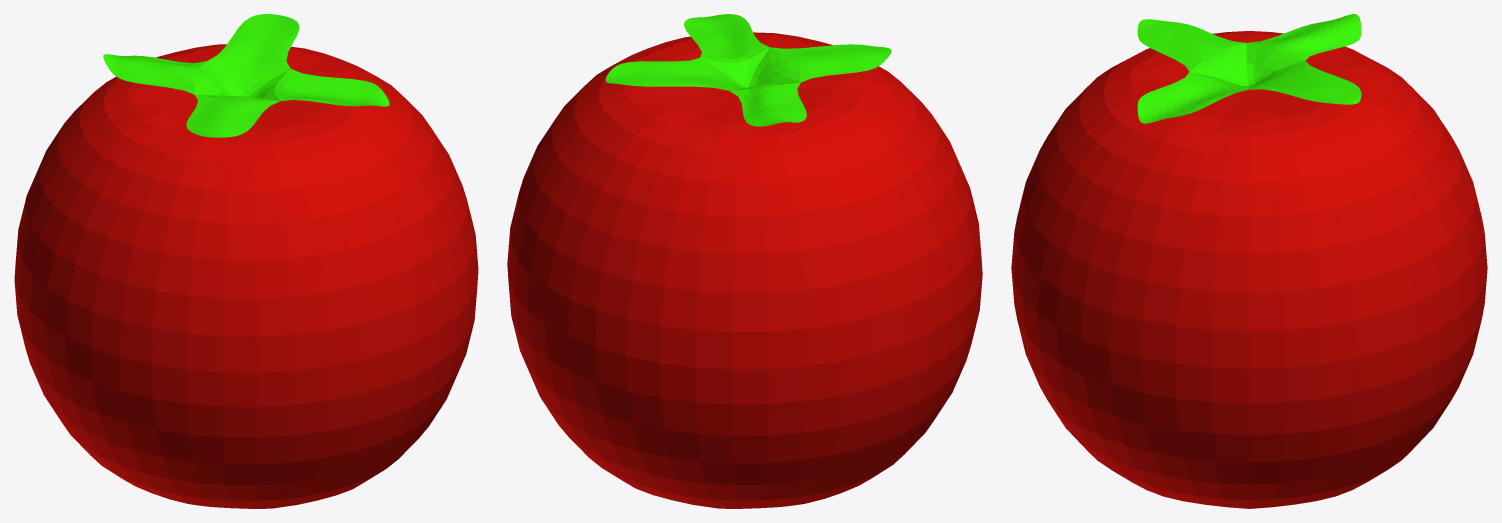
File: SM_Tomato_DEFAULT.FBX
3 renders of one model, left to right at view 1: azimuth 30°, elevation 25°; view 2: azimuth 150°, elevation 25°; view 3: azimuth 270°, elevation 25°, orthographic. The views are drawn at different scales.
Parts seen in each view (by area): view 1: SM_Tomato_DEFAULT; view 2: SM_Tomato_DEFAULT; view 3: SM_Tomato_DEFAULT.
Boxes of the visible parts, bbox=[...] form: SM_Tomato_DEFAULT: bbox=[14, 14, 478, 508]; SM_Tomato_DEFAULT: bbox=[507, 14, 982, 508]; SM_Tomato_DEFAULT: bbox=[1011, 14, 1487, 508].
Size of what is drawn, in the model's own units: 87.59 by 87.63 by 82.28.
